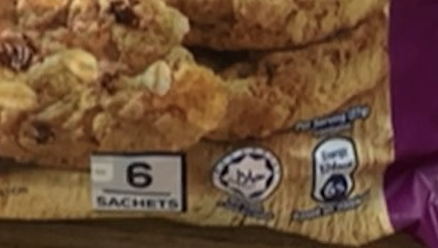halal: (229, 168, 270, 189)
